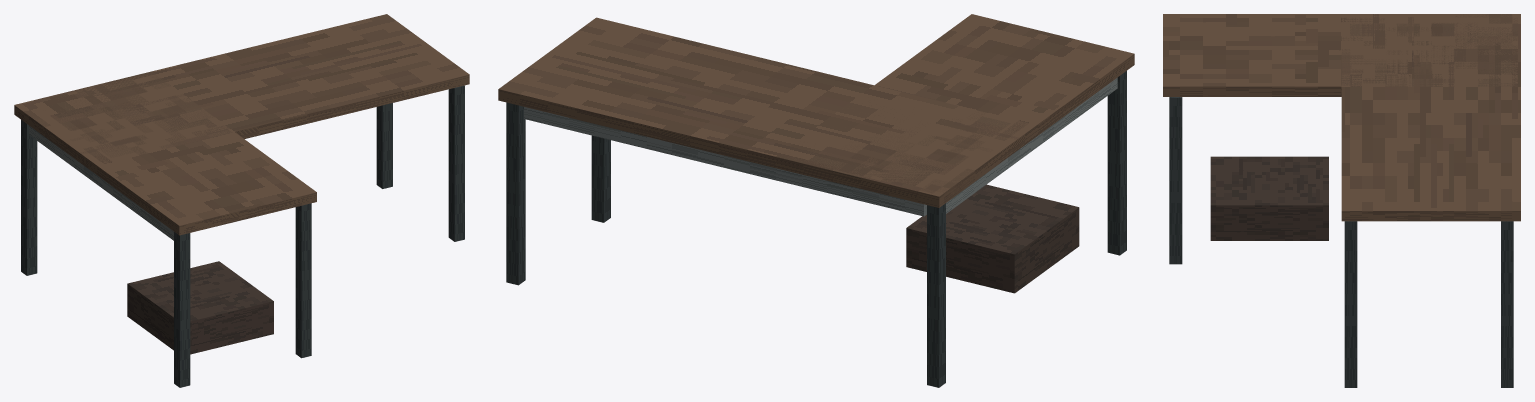
Rendered from escritorio_l.glb.
The picture shows the model from 3 angles, left to right: view 1: azimuth 30°, elevation 25°; view 2: azimuth 150°, elevation 25°; view 3: azimuth 270°, elevation 25°; orthographic projection. The views are drawn at different scales.
Visible parts, largest first — view 1: escritorio_l; view 2: escritorio_l; view 3: escritorio_l.
Part boxes in pixels (box(x1,y1,x2,y2)): escritorio_l: box(14, 14, 469, 387); escritorio_l: box(498, 14, 1134, 387); escritorio_l: box(1163, 14, 1520, 387).
Size of the model in its own units: 1.98 by 0.8382 by 1.52.
1 material, 1 textured.
